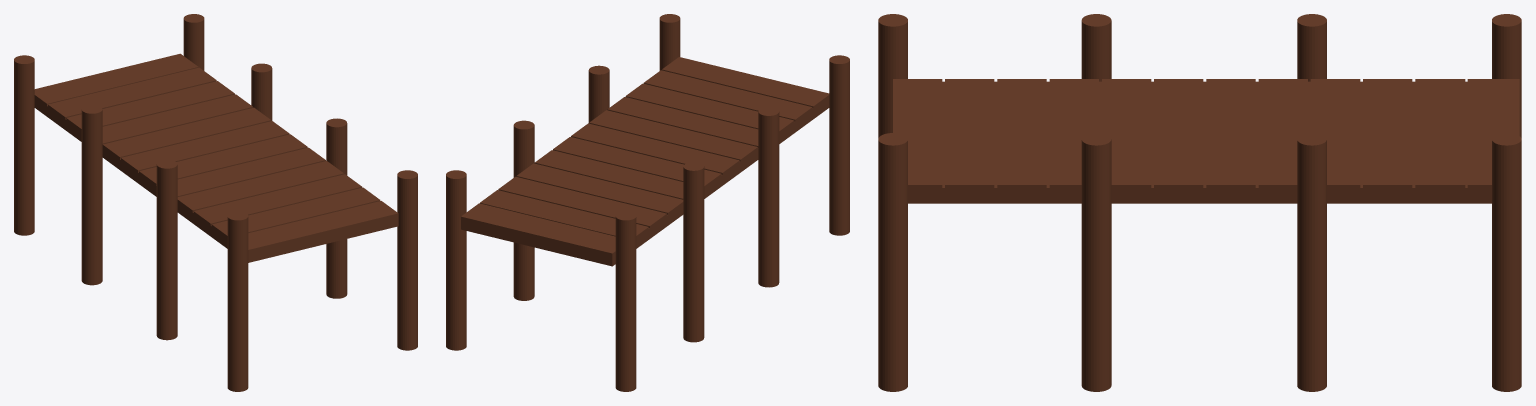
The model's file is dock.fbx.
3 renders of one model, left to right at view 1: azimuth 30°, elevation 25°; view 2: azimuth 150°, elevation 25°; view 3: azimuth 270°, elevation 25°, orthographic. The views are drawn at different scales.
Parts seen in each view (by area): view 1: Cube.082, Cylinder.003, Cylinder.004, Cylinder.006, Cylinder.007; view 2: Cube.082, Cylinder.007, Cylinder.006, Cylinder.004, Cylinder.003; view 3: Cube.082, Cylinder.003, Cylinder.004, Cylinder.007, Cylinder.006.
Part boxes in pixels (left/top/right/bottom): Cube.082: left=34, top=53, right=398, bottom=262; Cylinder.003: left=227, top=170, right=417, bottom=391; Cylinder.004: left=156, top=118, right=347, bottom=340; Cylinder.006: left=81, top=63, right=272, bottom=285; Cylinder.007: left=14, top=14, right=204, bottom=235; Cube.082: left=461, top=57, right=829, bottom=266; Cylinder.007: left=446, top=170, right=636, bottom=391; Cylinder.006: left=513, top=120, right=704, bottom=342; Cylinder.004: left=588, top=65, right=779, bottom=287; Cylinder.003: left=659, top=14, right=849, bottom=235; Cube.082: left=893, top=79, right=1519, bottom=203; Cylinder.003: left=878, top=14, right=907, bottom=391; Cylinder.004: left=1081, top=14, right=1111, bottom=391; Cylinder.007: left=1492, top=14, right=1521, bottom=391; Cylinder.006: left=1297, top=14, right=1326, bottom=391.
Size of the model in its own units: 248 by 216 by 512.
